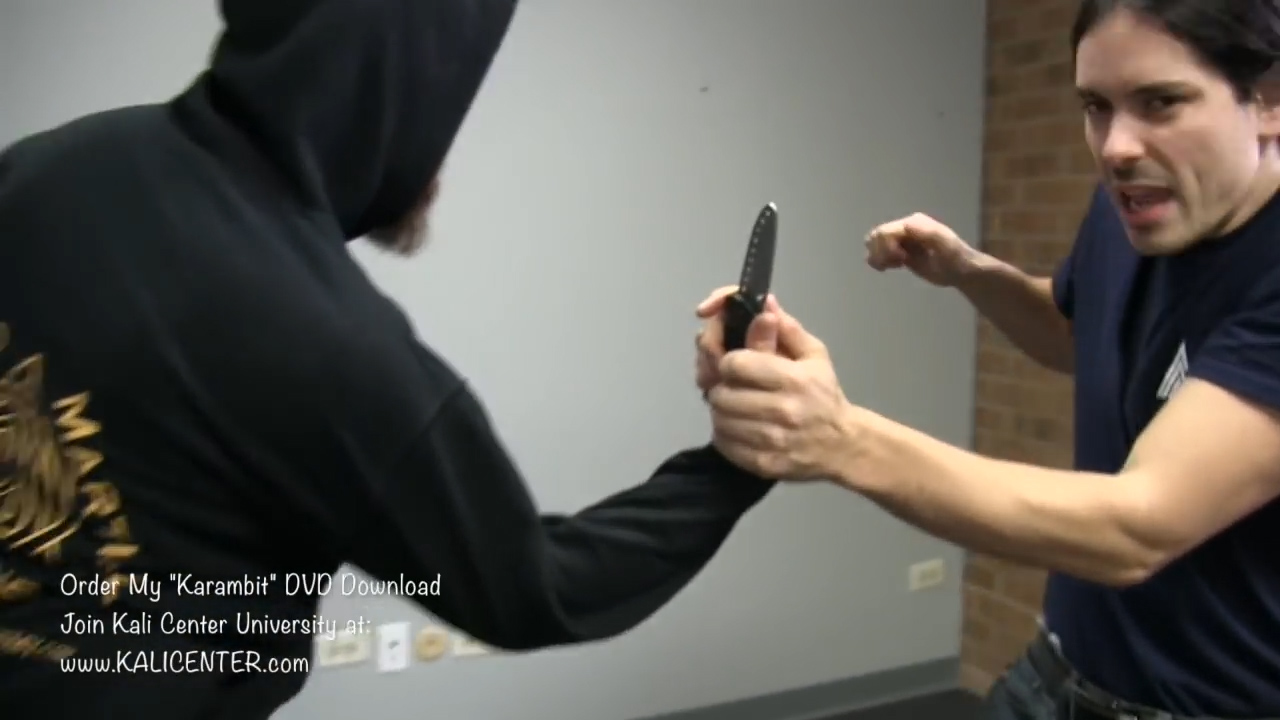knife: (682, 188, 837, 420)
